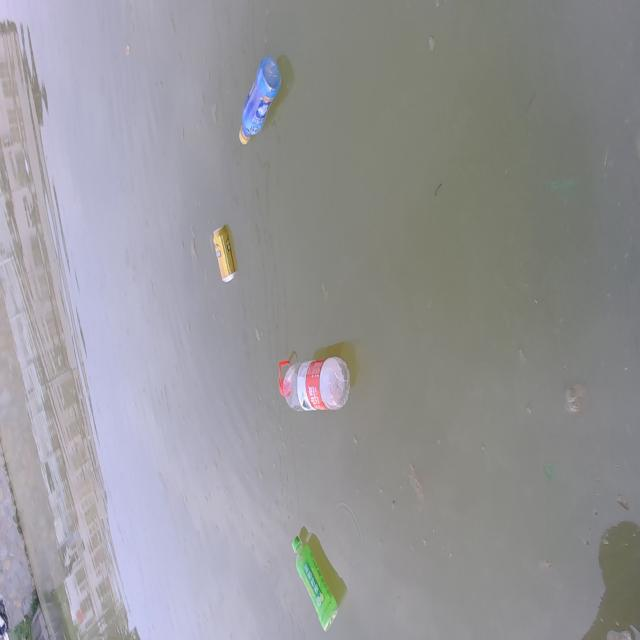Bottle: (286, 531, 343, 632), (274, 348, 353, 416), (238, 53, 282, 151)
Can: (206, 220, 244, 284)
